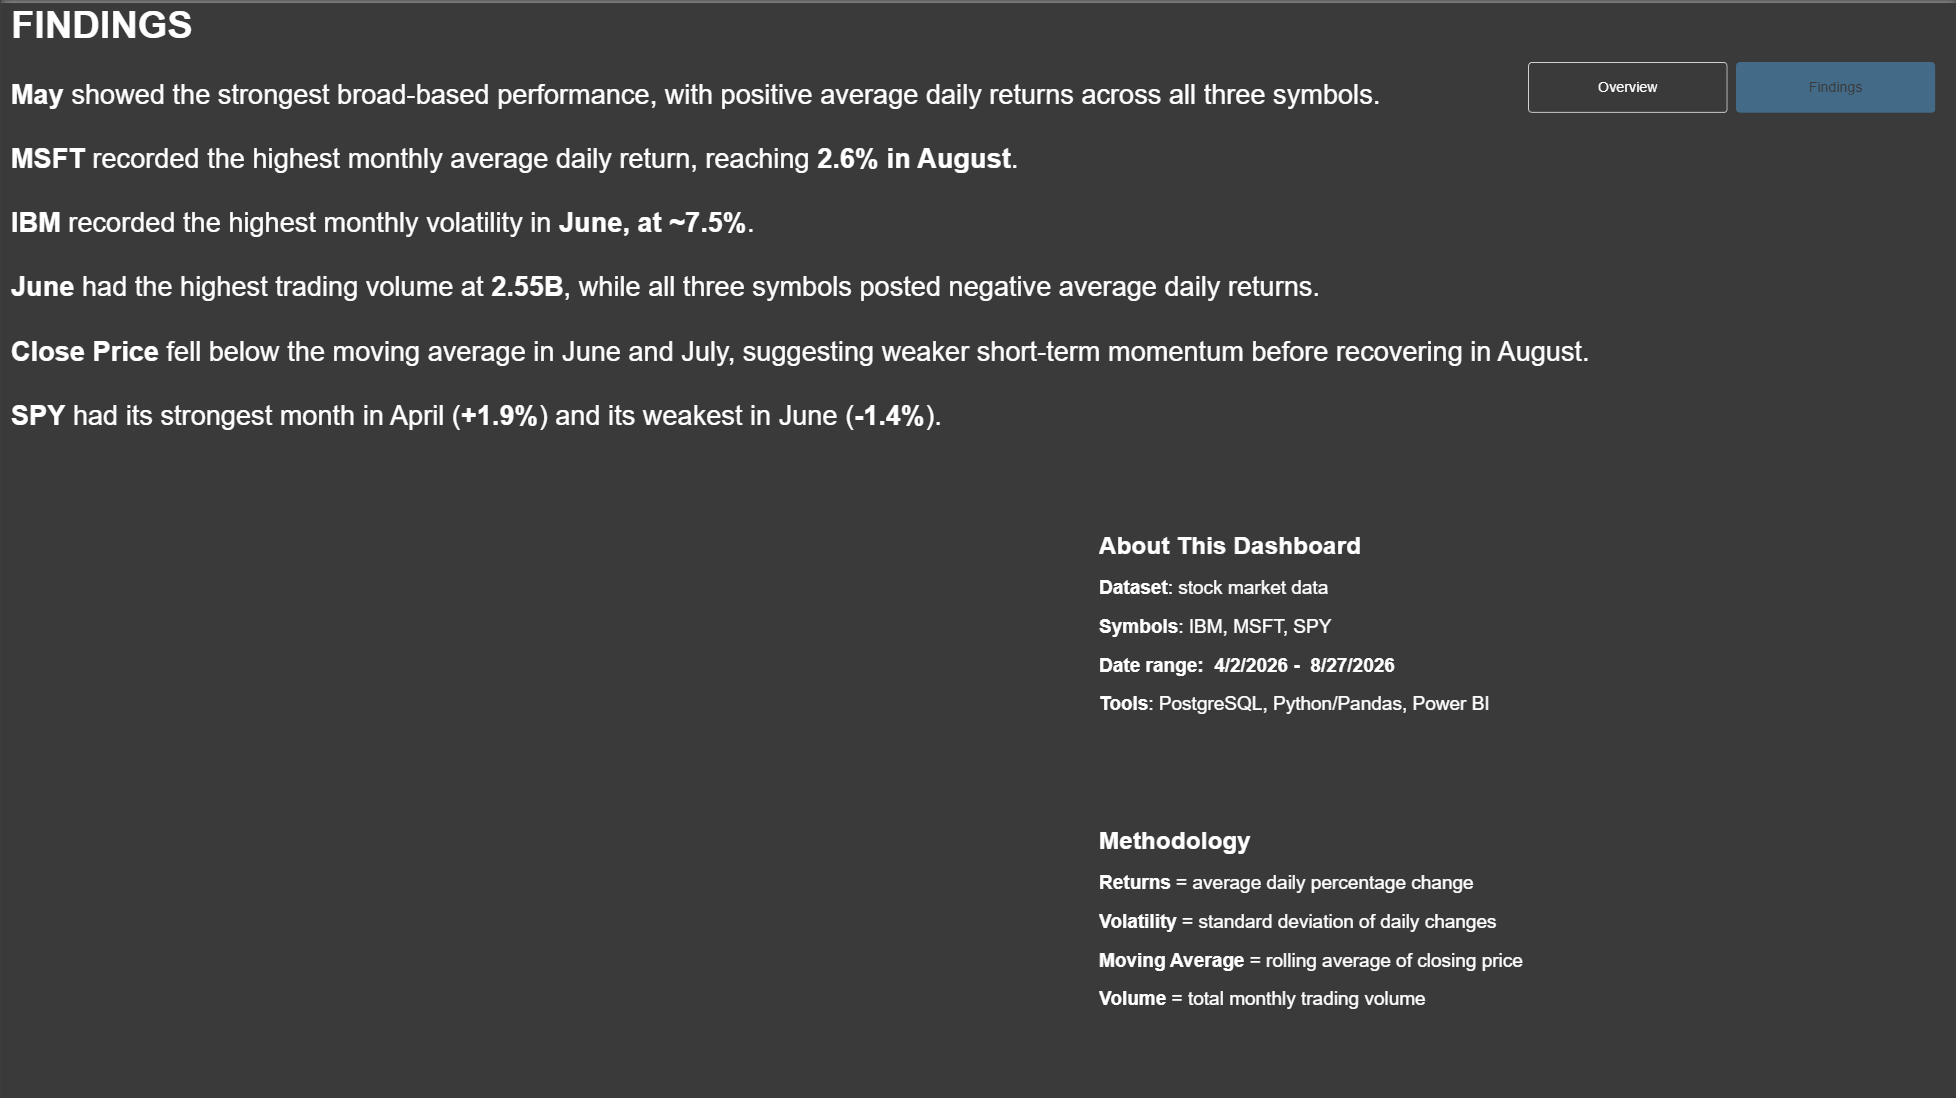

This screenshot's page, from the dashboard's own definition file:
{"tool":"powerbi","page":{"name":"Findings","canvas":[1920,1080],"ordinal":1},"visuals":[{"type":"textbox","box":[9.8,0,1749.2,559.5],"z":0},{"type":"pageNavigator","box":[1498.9,57.9,400,50],"z":1000},{"type":"textbox","box":[1077.8,519.3,842.2,186.5],"z":1001},{"type":"textbox","box":[1077.8,808.8,842.2,201.2],"z":1002}]}

Visuals, with their boxes in screenshot pixels (x1, y1, x2, y2), scaled from the page's 1920x1080 canvas onto the 1956x1098 screenshot:
textbox: x1=10, y1=0, x2=1792, y2=569
pageNavigator: x1=1527, y1=59, x2=1935, y2=110
textbox: x1=1098, y1=528, x2=1955, y2=718
textbox: x1=1098, y1=822, x2=1955, y2=1027
